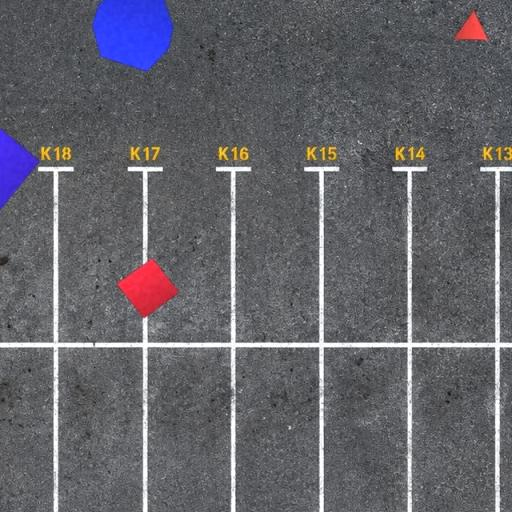BLUE_SQUARE: (0, 98, 41, 232)
RED_SQUARE: (116, 258, 180, 319)
